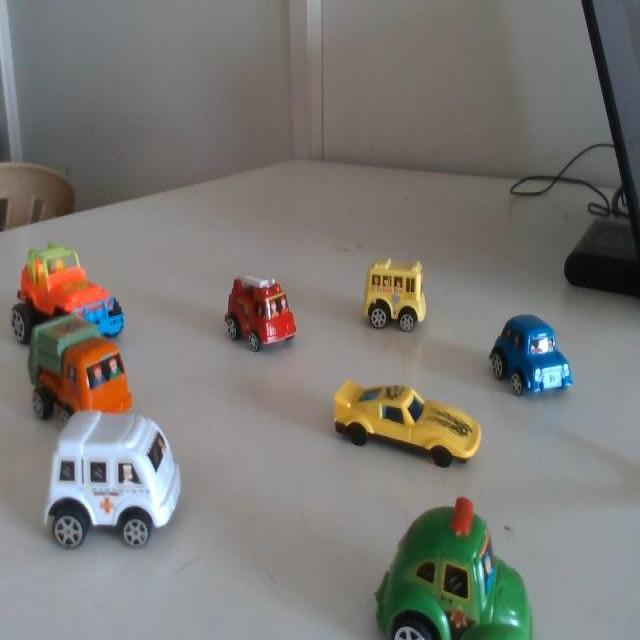car: (55, 385, 209, 576), (407, 514, 540, 638), (348, 366, 476, 484), (47, 237, 133, 347), (56, 306, 125, 428), (222, 260, 298, 370), (356, 252, 439, 348), (503, 310, 573, 402)
